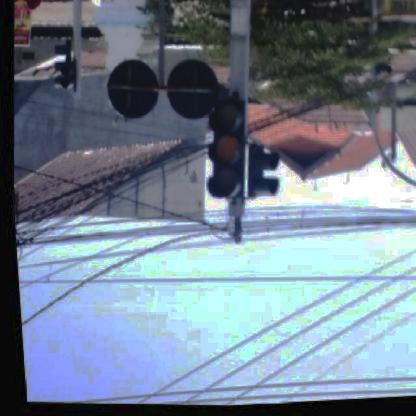Traffic Light -Yellow-: (200, 99, 248, 204)
